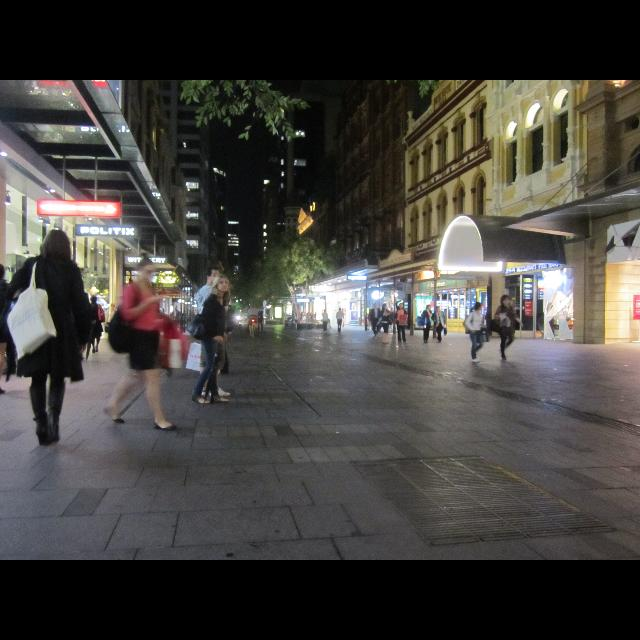head: (44, 229, 70, 255), (138, 260, 154, 280), (206, 264, 220, 284), (214, 276, 230, 292), (502, 295, 511, 307), (474, 302, 482, 310), (90, 296, 98, 302), (110, 303, 116, 309), (398, 303, 404, 309), (382, 304, 388, 310), (436, 306, 440, 312), (426, 306, 432, 310), (373, 302, 377, 308), (174, 305, 178, 309), (250, 305, 254, 309), (338, 308, 342, 312), (391, 308, 394, 310), (260, 306, 262, 308), (324, 310, 326, 312)
person: (2, 228, 96, 450), (100, 251, 182, 434), (184, 261, 232, 401), (184, 274, 234, 406), (493, 293, 525, 361), (462, 301, 488, 363), (84, 294, 104, 354), (416, 304, 434, 344), (104, 302, 120, 346), (430, 305, 448, 343), (379, 303, 395, 345), (395, 298, 409, 344), (167, 304, 181, 342), (368, 302, 382, 338), (247, 304, 260, 336), (336, 308, 346, 334), (321, 308, 329, 334), (387, 306, 395, 332), (257, 308, 265, 332)
